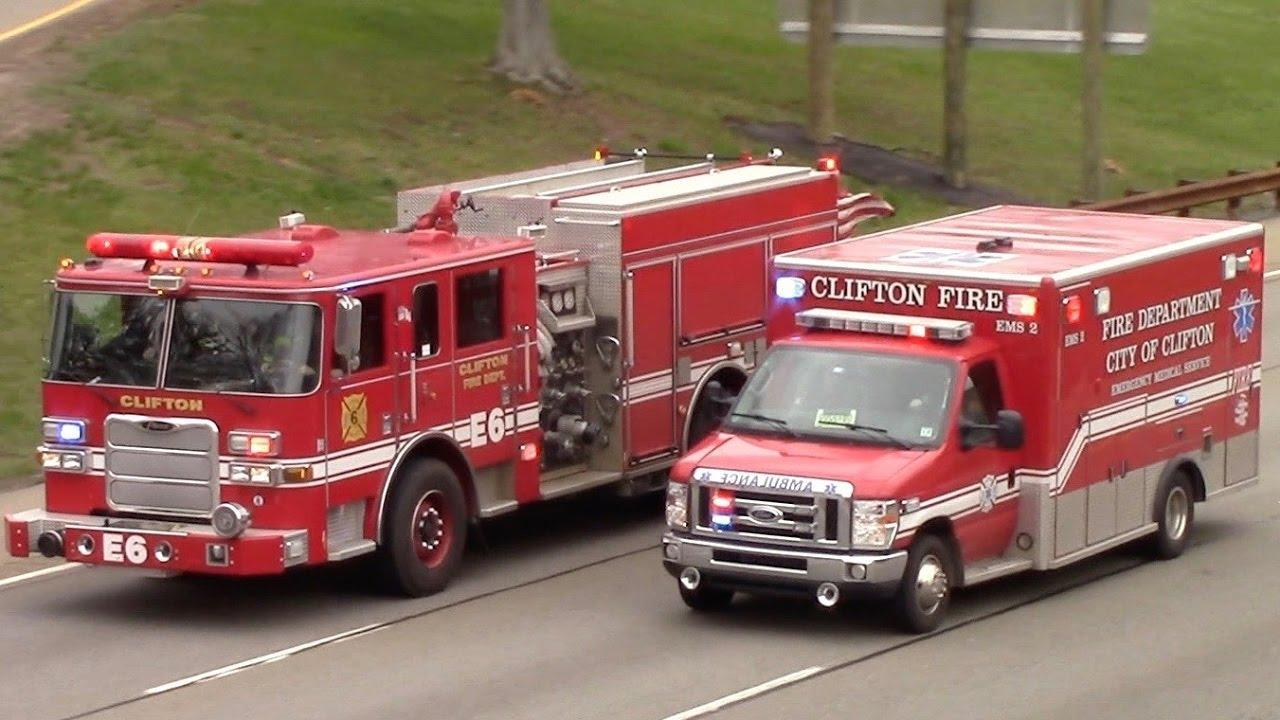Fire-engine: (4, 162, 851, 598)
